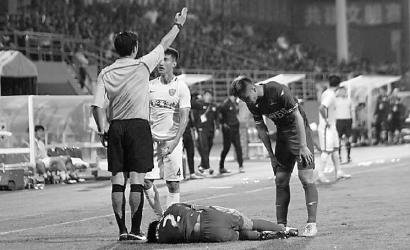falling: (143, 195, 302, 247)
